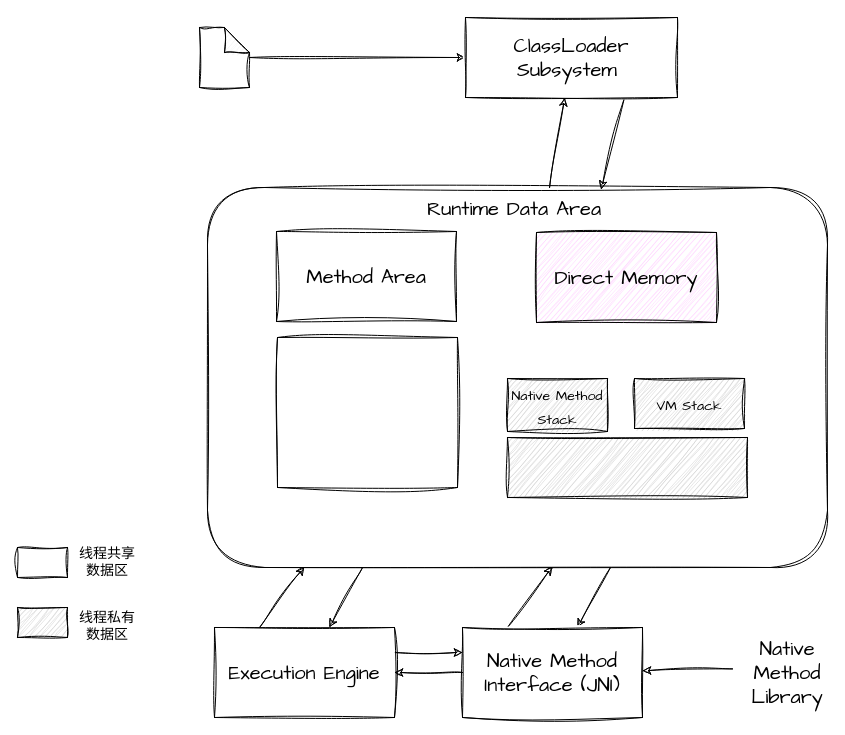
This 845x735 diagram has some shape labels left out. Each missing label, with the centre of its shape:
class: the point at 224,57
Heap: the point at 367,412
PC register: the point at 627,467
